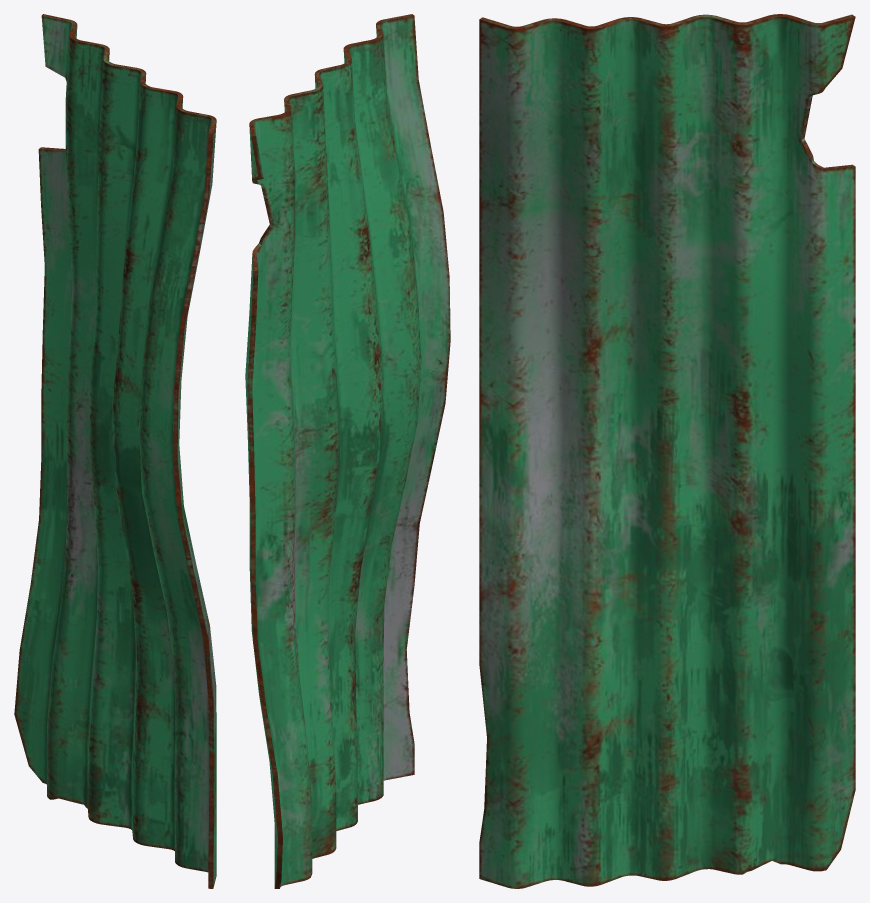
The model's file is egri_sac_b.gltf.
3 renders of one model, left to right at view 1: azimuth 30°, elevation 25°; view 2: azimuth 150°, elevation 25°; view 3: azimuth 270°, elevation 25°, orthographic. The views are drawn at different scales.
Visible parts, largest first — view 1: egri_sac_b; view 2: egri_sac_b; view 3: egri_sac_b.
Boxes of the visible parts, box(x1,y1,x2,y2) form: egri_sac_b: box(14, 14, 216, 888); egri_sac_b: box(245, 14, 450, 888); egri_sac_b: box(479, 14, 855, 888).
Size of what is drawn, in the model's own units: 0.2373 by 2.98 by 1.18.
Materials: 1 (1 with a texture image).
